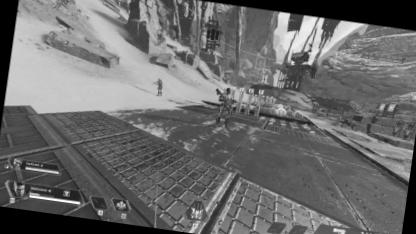Target: (216, 86, 236, 127), (154, 78, 165, 97)
